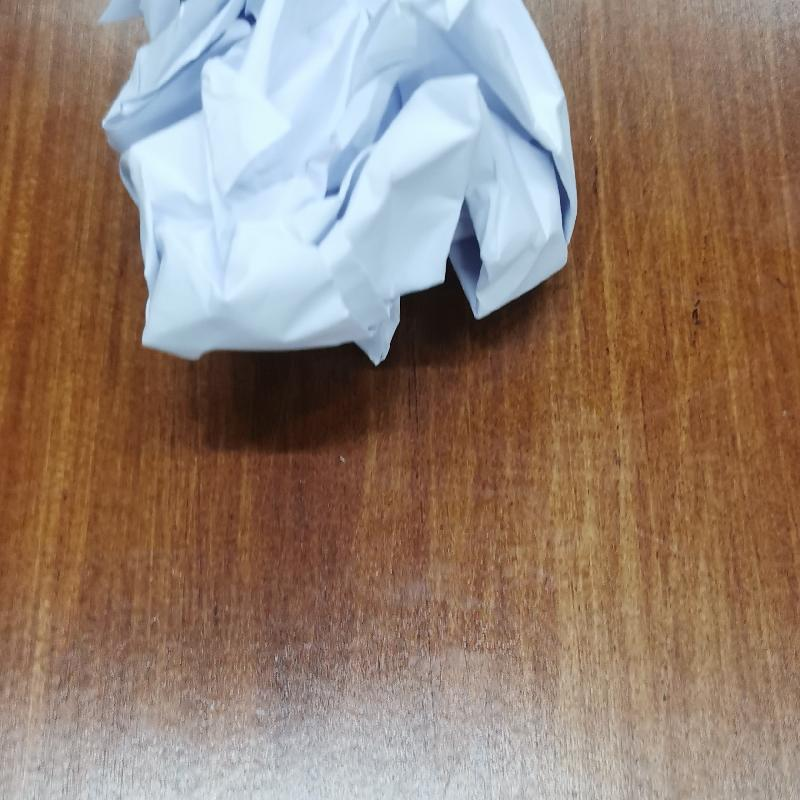spitball: (91, 6, 580, 368)
